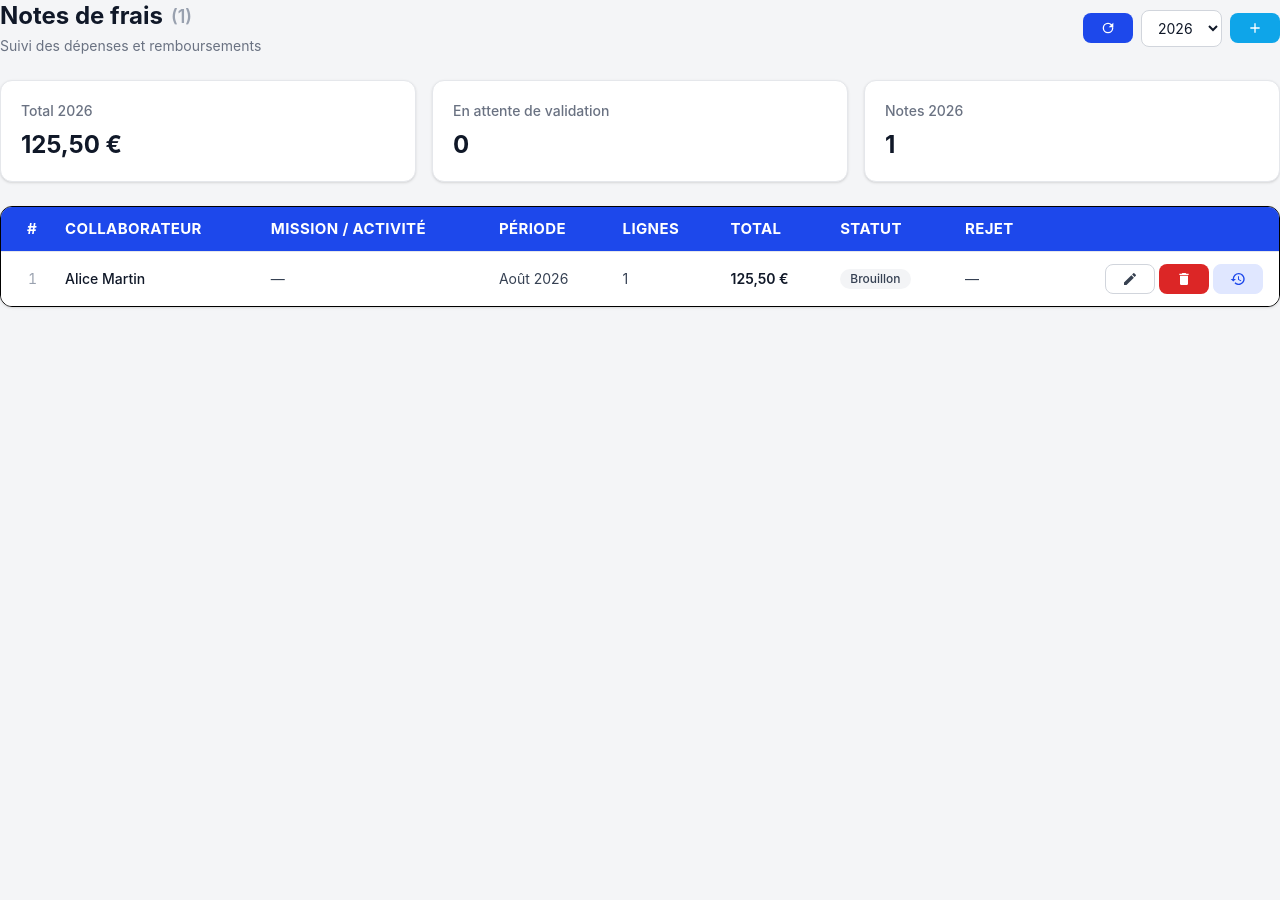
Scenario: NoteFraisList › ouvre le formulaire en cliquant sur une ligne de la liste
Click the text "Alice Martin". click: (105, 278)
box: [1, 252, 1279, 306]
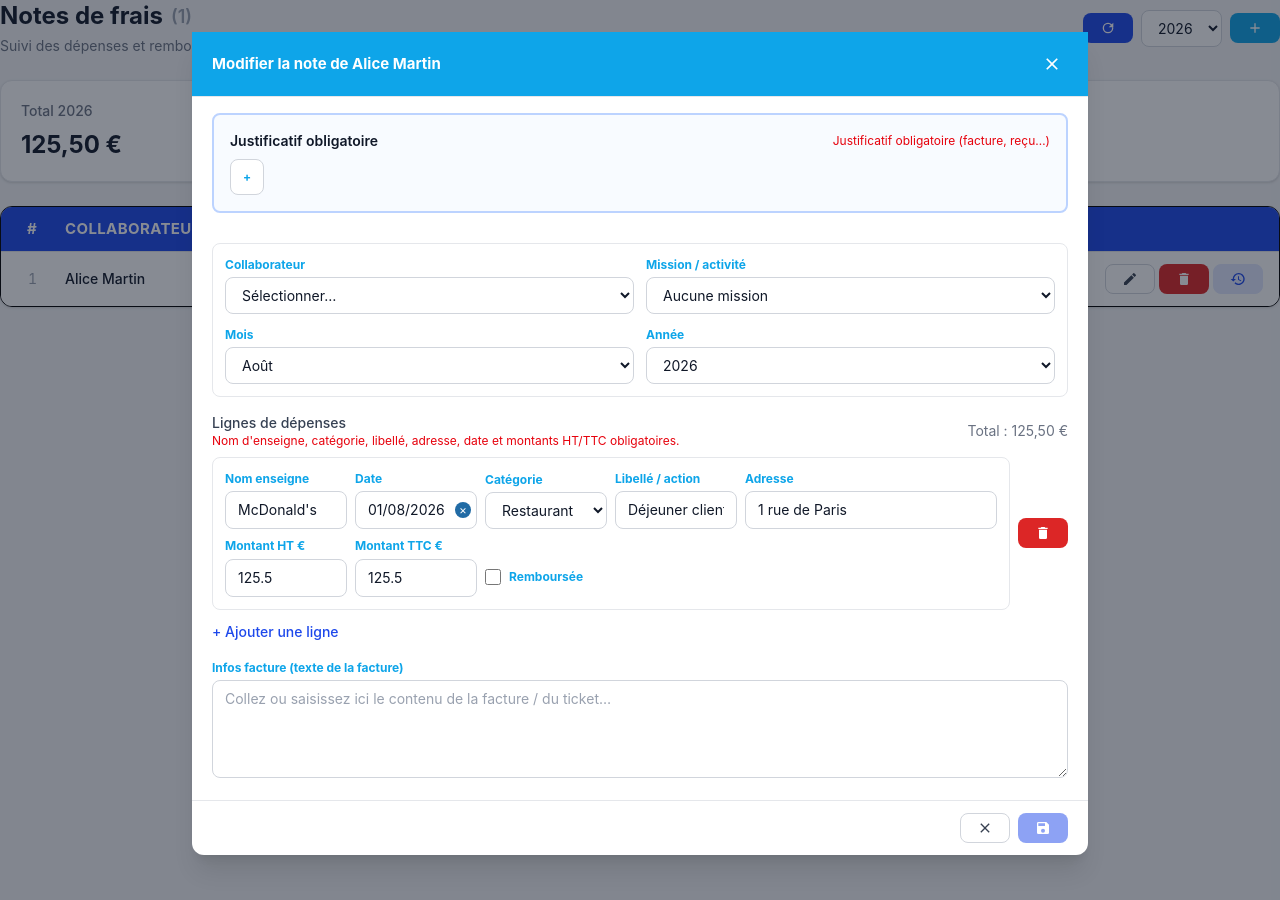
Check: the dialog is shown
Check: the button named "Enregistrer" is shown, box [1018, 813, 1068, 843]
